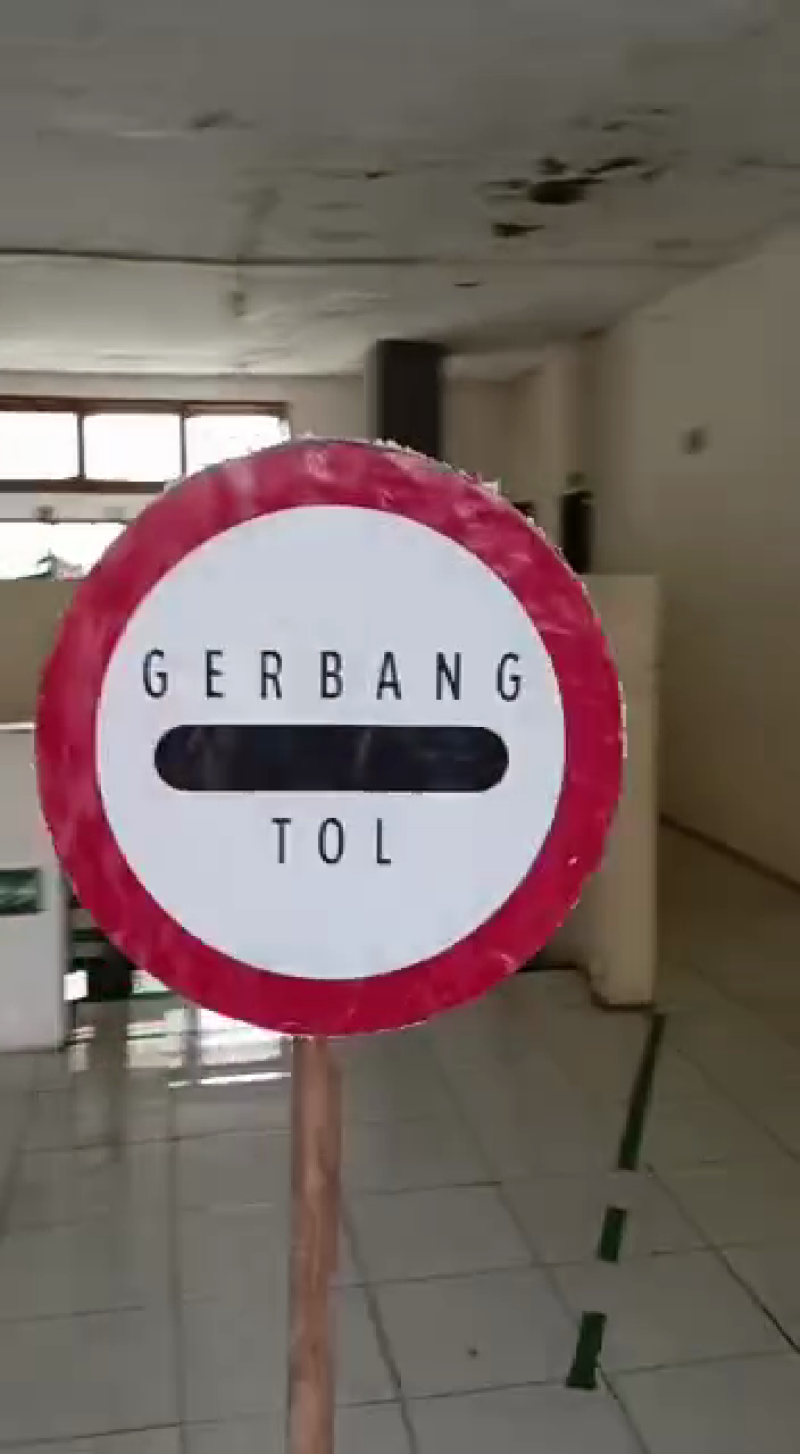gerbang tol: (42, 429, 639, 1046)
